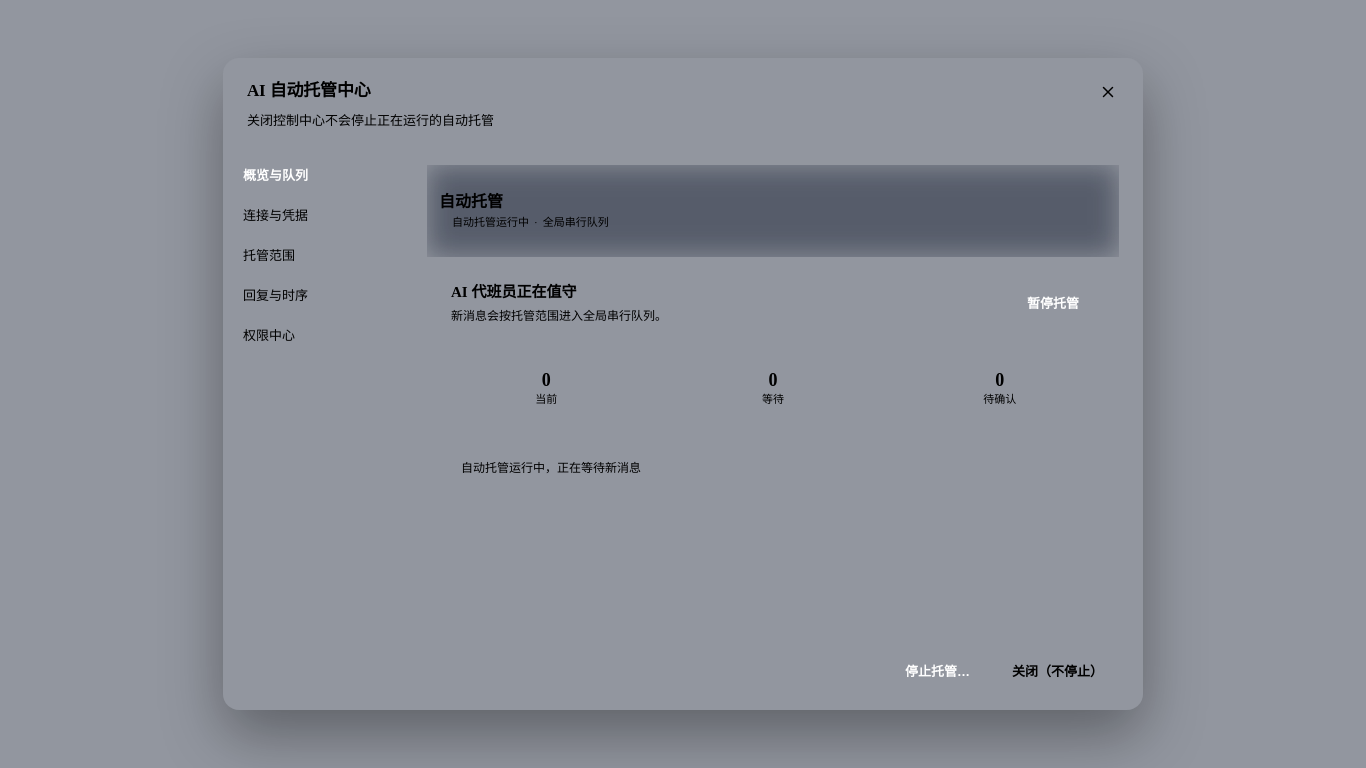
Test: AI hosting center › moves focus to the persistent overview tab after stopping succeeds
Click the button "停止托管…" at (938, 670), box [889,652,986,688]
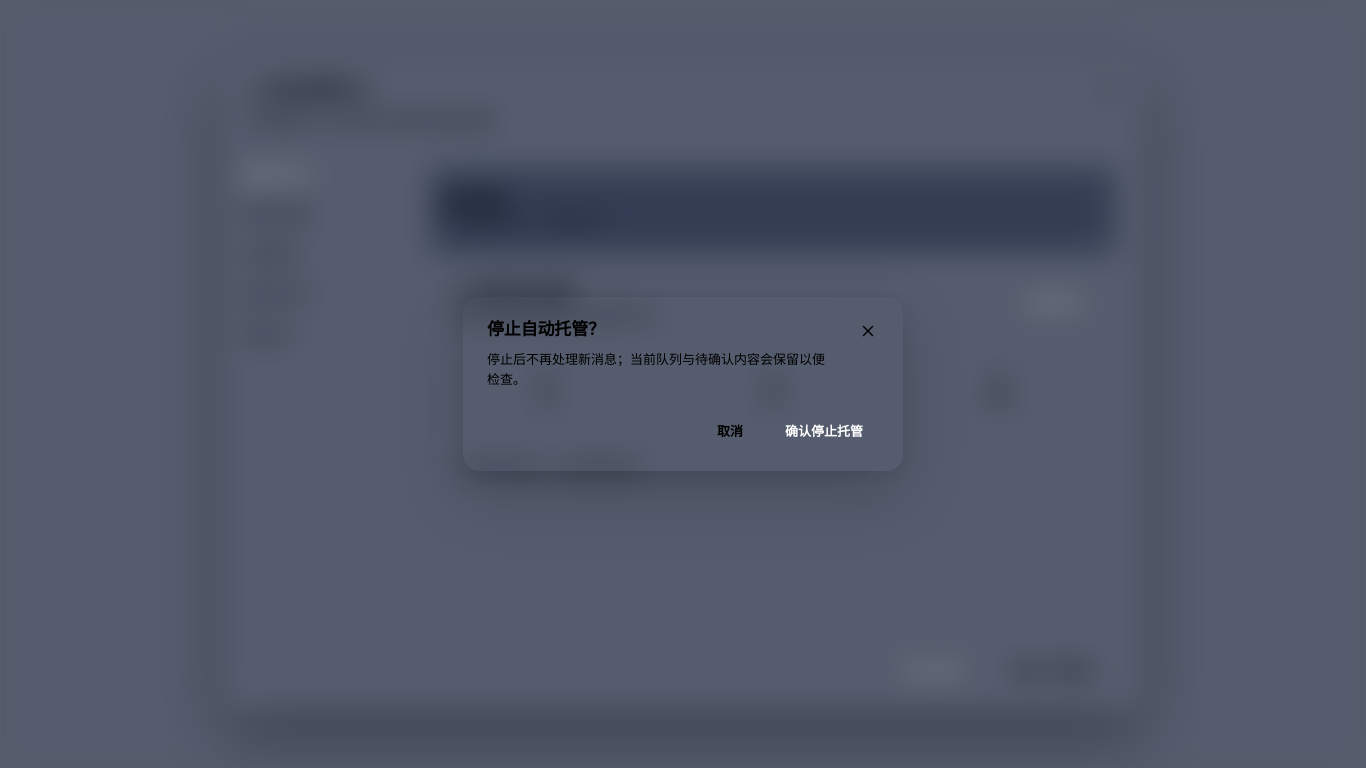
Click the button "确认停止托管" at (824, 431), box [769,413,879,449]
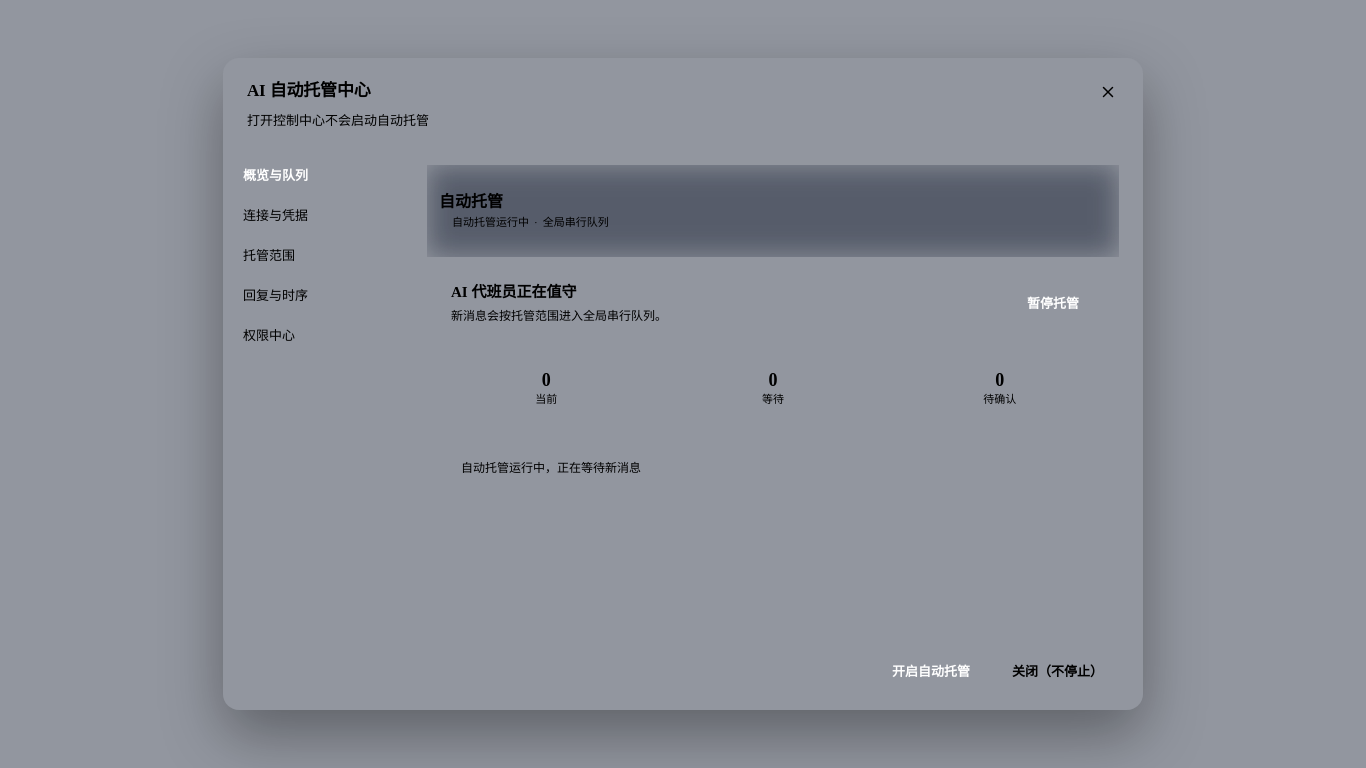
Result: the heading "停止自动托管？" is gone
